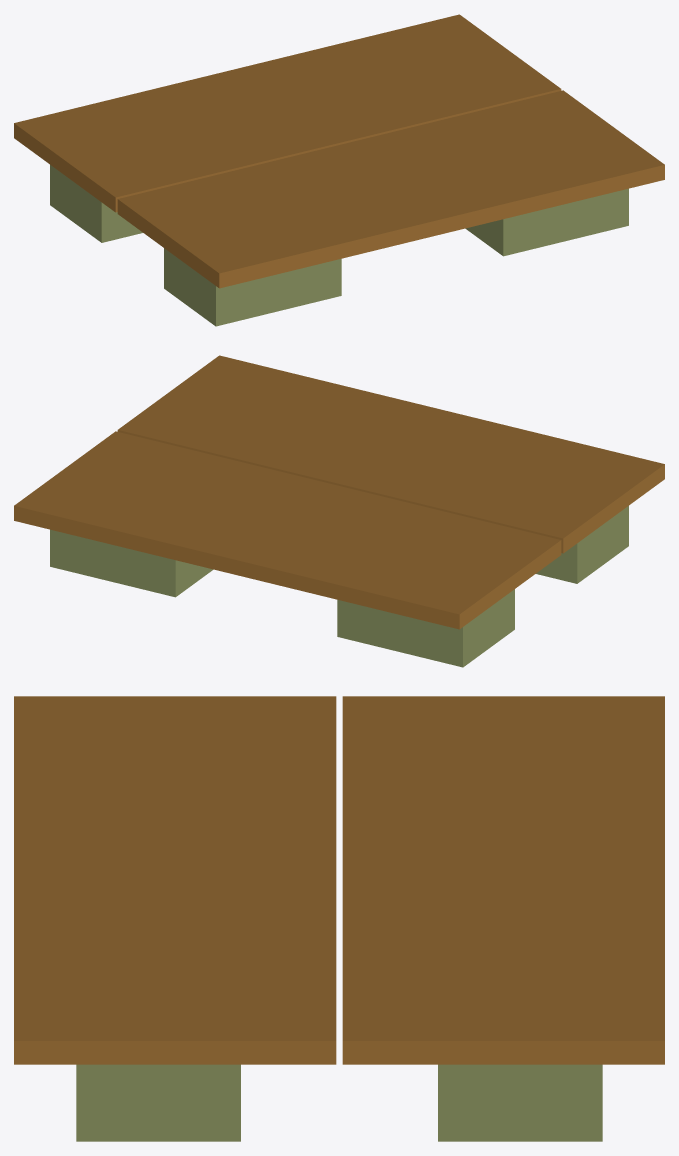
Rendered from SM_BanquetaCorta_v2_LOD1.fbx.
The picture shows the model from 3 angles, top to bottom: view 1: azimuth 30°, elevation 25°; view 2: azimuth 150°, elevation 25°; view 3: azimuth 270°, elevation 25°; orthographic projection. The views are drawn at different scales.
Parts seen in each view (by area): view 1: SM_banqueta_tiro_v12_LOD1; view 2: SM_banqueta_tiro_v12_LOD1; view 3: SM_banqueta_tiro_v12_LOD1.
Boxes of the visible parts, x1=… form: SM_banqueta_tiro_v12_LOD1: x1=14, y1=14, x2=664, y2=326; SM_banqueta_tiro_v12_LOD1: x1=14, y1=355, x2=664, y2=667; SM_banqueta_tiro_v12_LOD1: x1=14, y1=696, x2=664, y2=1141.
Size of the model in its own units: 2.48 by 0.38 by 1.98.
